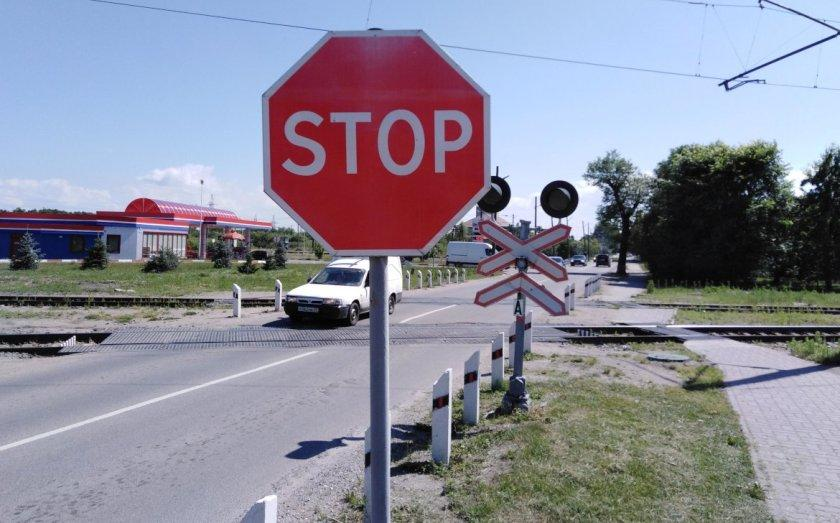Pole: (368, 265, 388, 518), (513, 321, 525, 377)
Sign: (262, 29, 490, 256)
